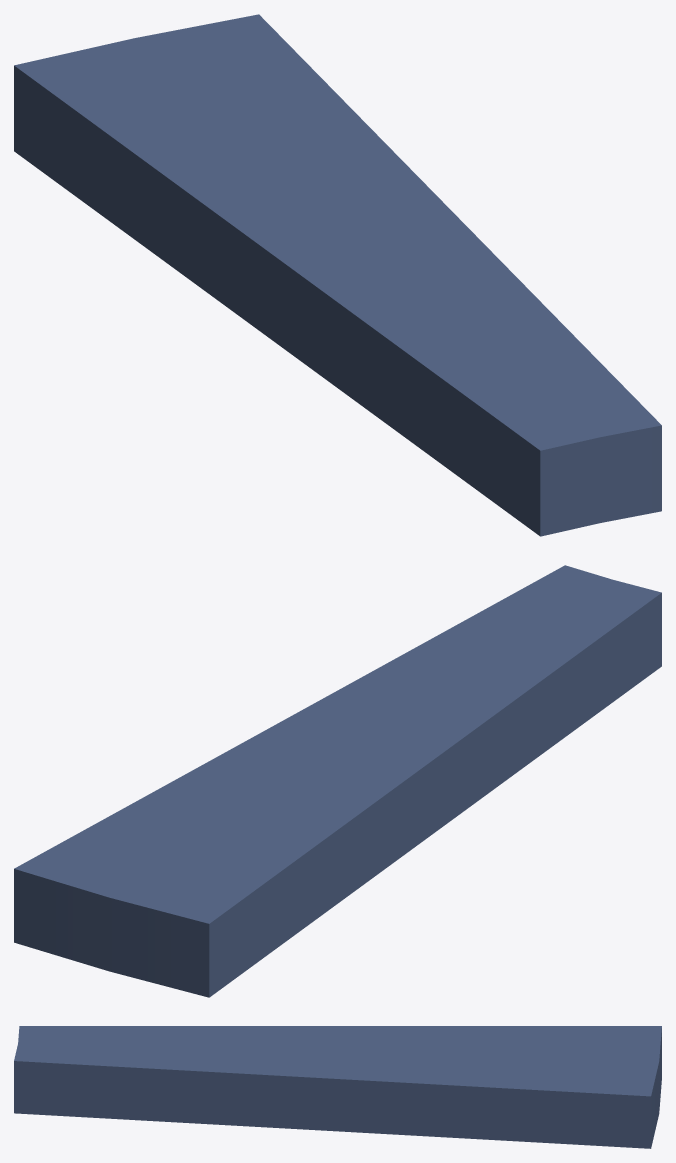
Rendered from Ring_02_Wedge_01.fbx.
The picture shows the model from 3 angles, top to bottom: view 1: azimuth 30°, elevation 25°; view 2: azimuth 150°, elevation 25°; view 3: azimuth 270°, elevation 25°; orthographic projection. The views are drawn at different scales.
Parts seen in each view (by area): view 1: Ring_02; view 2: Ring_02; view 3: Ring_02.
Part boxes in pixels (x1,y1,x2,y2): Ring_02: [14, 14, 661, 536]; Ring_02: [14, 565, 661, 997]; Ring_02: [14, 1026, 661, 1148].
Size of the model in its own units: 22.9 by 7.96 by 89.16.
